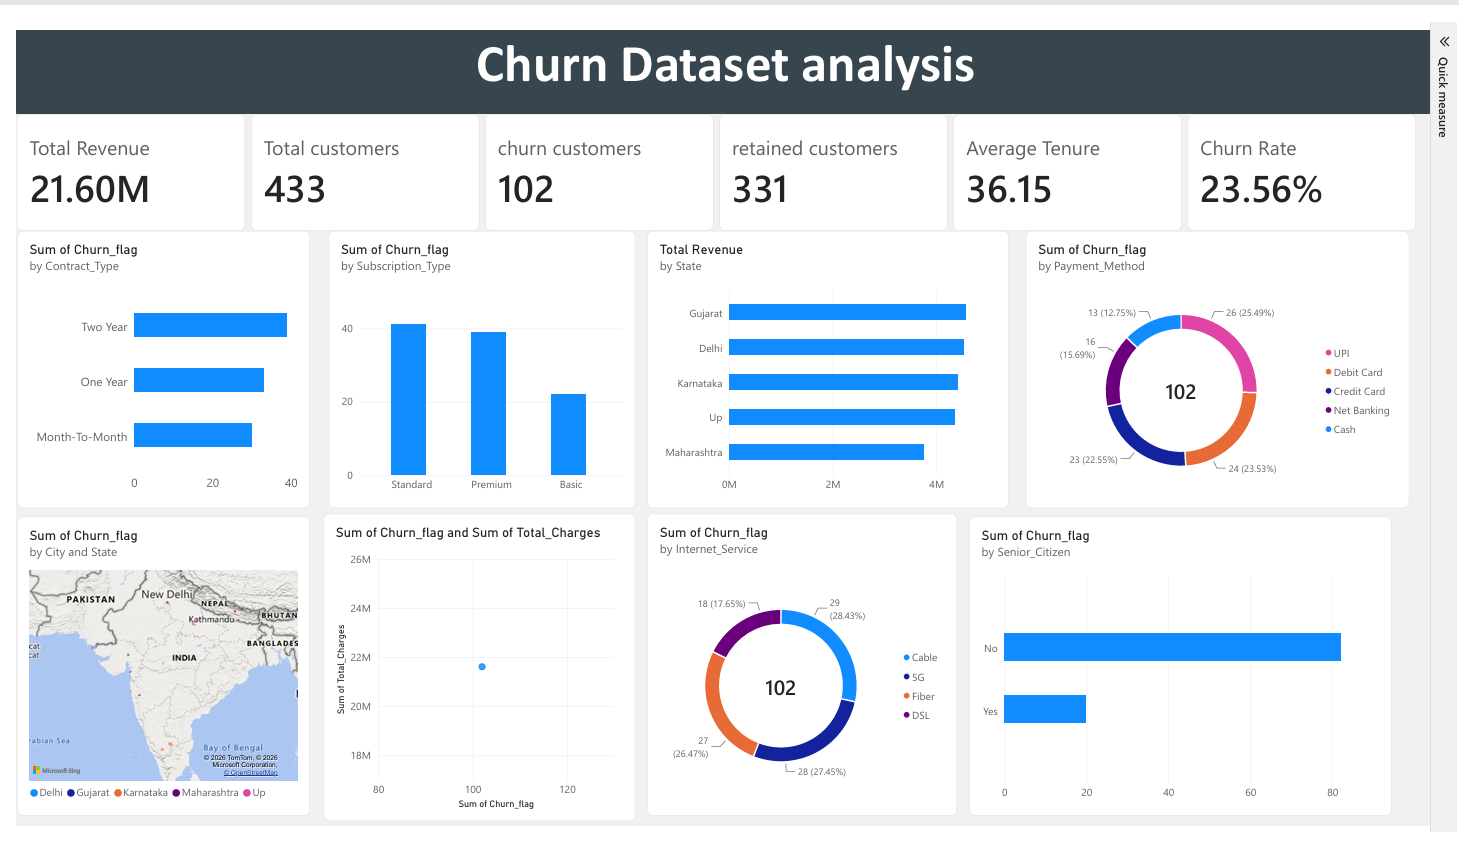

The dashboard page shown, as its layout file describes it:
{"tool":"powerbi","page":{"name":"Page 1","canvas":[1920,1080],"ordinal":0},"visuals":[{"type":"cardVisual","fields":{"Data":["measure_query.Total Revenue","measure_query.Total customers","measure_query.churn customers","measure_query.retained customers","measure_query.Average Tenure","measure_query.Churn Rate"]},"box":[0,114,1902.3,158.1],"z":0},{"type":"clusteredBarChart","fields":{"Category":["Clean_churn_data.Contract_Type"],"Y":["Sum(Clean_churn_data.Churn_flag)"]},"box":[0,272.1,397.7,376.7],"z":1000},{"type":"columnChart","fields":{"Category":["Clean_churn_data.Subscription_Type"],"Y":["Sum(Clean_churn_data.Churn_flag)"]},"box":[423.3,272.1,416.3,376.7],"z":2000},{"type":"filledMap","fields":{"Category":["Clean_churn_data.City"],"Series":["Clean_churn_data.State"]},"box":[0,660.5,397.7,407],"z":3000},{"type":"scatterChart","fields":{"X":["Sum(Clean_churn_data.Churn_flag)"],"Y":["Sum(Clean_churn_data.Total_Charges)"]},"box":[416.3,655.8,423.3,418.6],"z":4000},{"type":"barChart","fields":{"Category":["Clean_churn_data.State"],"Y":["measure_query.Total Revenue"]},"box":[855.8,272.1,490.7,376.7],"z":5000},{"type":"donutChart","fields":{"Category":["Clean_churn_data.Internet_Service"],"Y":["Sum(Clean_churn_data.Churn_flag)"]},"box":[855.8,655.8,420.9,411.6],"z":6000},{"type":"donutChart","fields":{"Category":["Clean_churn_data.Payment_Method"],"Y":["Sum(Clean_churn_data.Churn_flag)"]},"box":[1369.8,272.1,520.9,376.7],"z":7000},{"type":"barChart","fields":{"Category":["Clean_churn_data.Senior_Citizen"],"Y":["Sum(Clean_churn_data.Churn_flag)"]},"box":[1293,660.5,574.4,407],"z":8000},{"type":"shape","box":[0,0,1920.8,113.7],"z":9000},{"type":"textbox","box":[33.2,0,1859.2,130.3],"z":10000}]}

Visuals, with their boxes on the page's 1920x1080 design canvas (x1, y1, x2, y2). These are canvas units, not pixel positions in the 1459x847 screenshot, which may show the page scaled, cropped or inside an application window:
cardVisual - measure_query.Total Revenue x measure_query.Total customers: <box>0,114,1902,272</box>
clusteredBarChart - Clean_churn_data.Contract_Type x Sum(Clean_churn_data.Churn_flag): <box>0,272,398,649</box>
columnChart - Clean_churn_data.Subscription_Type x Sum(Clean_churn_data.Churn_flag): <box>423,272,840,649</box>
filledMap - Clean_churn_data.City x Clean_churn_data.State: <box>0,660,398,1068</box>
scatterChart - Sum(Clean_churn_data.Churn_flag) x Sum(Clean_churn_data.Total_Charges): <box>416,656,840,1074</box>
barChart - Clean_churn_data.State x measure_query.Total Revenue: <box>856,272,1346,649</box>
donutChart - Clean_churn_data.Internet_Service x Sum(Clean_churn_data.Churn_flag): <box>856,656,1277,1067</box>
donutChart - Clean_churn_data.Payment_Method x Sum(Clean_churn_data.Churn_flag): <box>1370,272,1891,649</box>
barChart - Clean_churn_data.Senior_Citizen x Sum(Clean_churn_data.Churn_flag): <box>1293,660,1867,1068</box>
shape: <box>0,0,1921,114</box>
textbox: <box>33,0,1892,130</box>
